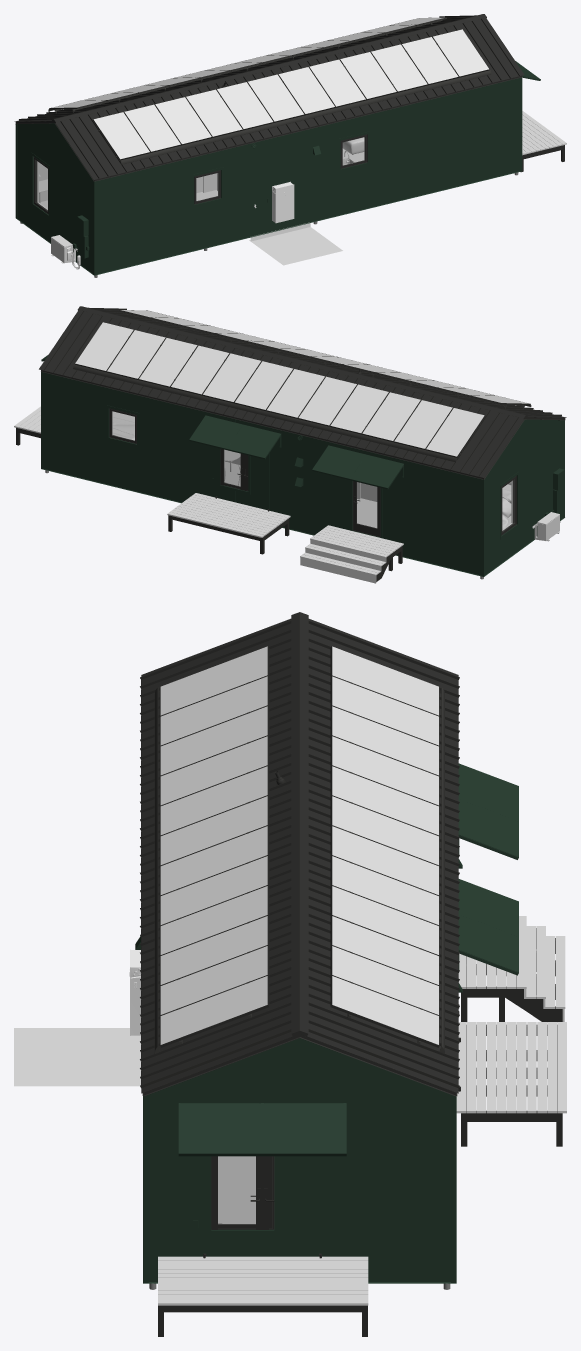
The picture shows the model from 3 angles, top to bottom: view 1: azimuth 30°, elevation 25°; view 2: azimuth 150°, elevation 25°; view 3: azimuth 270°, elevation 25°; orthographic projection. The views are drawn at different scales.
Visible parts, largest first — view 1: Wall_e_2B, SP_Right_2B, Roof_2B, SP_Left_2B, Tesla_shadow, Shield_Right_2B, Glass_2B, Deck_DDL_2B, Frame_DW_2B, Window_2B, Frame_Around_2B, Tesla_powerwall (+4 smaller); view 2: Wall_e_FrontWindow_2B, SP_Left_2B, Wall_e_DDF_2B, Roof_2B, Wall_e_2B, Deck_2B, SP_Right_2B, Desk_DDF_2B, Awning_DDF_2B, Awning_DoorEnt_Front_2B, Shield_Left_2B, Glass_2B (+17 smaller); view 3: Roof_2B, Wall_e_LeftWindow_2B, SP_Left_2B, SP_Right_2B, Wall_e_DDL_2B, Deck_DDL_2B, Desk_DDF_2B, Awning_DDL_2B, Tesla_shadow, Deck_2B, Awning_DDF_2B, Awning_DoorEnt_Front_2B (+12 smaller).
Part boxes in pixels (x1,y1,x2,y2): Wall_e_2B: [17, 78, 519, 274]; SP_Right_2B: [93, 29, 489, 160]; Roof_2B: [14, 14, 524, 181]; SP_Left_2B: [50, 17, 446, 109]; Tesla_shadow: [249, 222, 342, 265]; Shield_Right_2B: [120, 70, 491, 164]; Glass_2B: [35, 137, 364, 210]; Deck_DDL_2B: [522, 111, 566, 155]; Frame_DW_2B: [31, 131, 370, 218]; Window_2B: [33, 134, 367, 214]; Frame_Around_2B: [15, 77, 522, 275]; Tesla_powerwall: [272, 181, 294, 223]; Wall_e_FrontWindow_2B: [43, 373, 481, 574]; SP_Left_2B: [74, 322, 485, 457]; Wall_e_DDF_2B: [43, 372, 481, 575]; Roof_2B: [39, 306, 566, 479]; Wall_e_2B: [485, 419, 563, 574]; Deck_2B: [300, 525, 403, 583]; SP_Right_2B: [119, 310, 529, 405]; Desk_DDF_2B: [167, 493, 290, 537]; Awning_DDF_2B: [189, 415, 281, 459]; Awning_DoorEnt_Front_2B: [312, 445, 403, 489]; Shield_Left_2B: [73, 364, 457, 462]; Glass_2B: [112, 411, 514, 531]; Roof_2B: [140, 612, 459, 1096]; Wall_e_LeftWindow_2B: [148, 1038, 450, 1281]; SP_Left_2B: [330, 646, 439, 1047]; SP_Right_2B: [160, 646, 269, 1047]; Wall_e_DDL_2B: [148, 1038, 447, 1281]; Deck_DDL_2B: [158, 1256, 368, 1305]; Desk_DDF_2B: [456, 1022, 566, 1113]; Awning_DDL_2B: [178, 1103, 346, 1156]; Tesla_shadow: [14, 1028, 140, 1086]; Deck_2B: [458, 916, 565, 1021]; Awning_DDF_2B: [458, 879, 518, 975]; Awning_DoorEnt_Front_2B: [458, 763, 518, 859].
Size of the model in its own units: 16.34 by 4.26 by 8.03.
